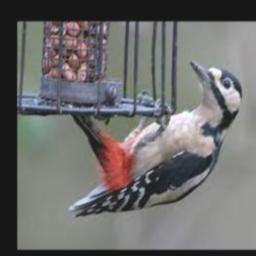Woodpecker: (69, 60, 243, 217)
